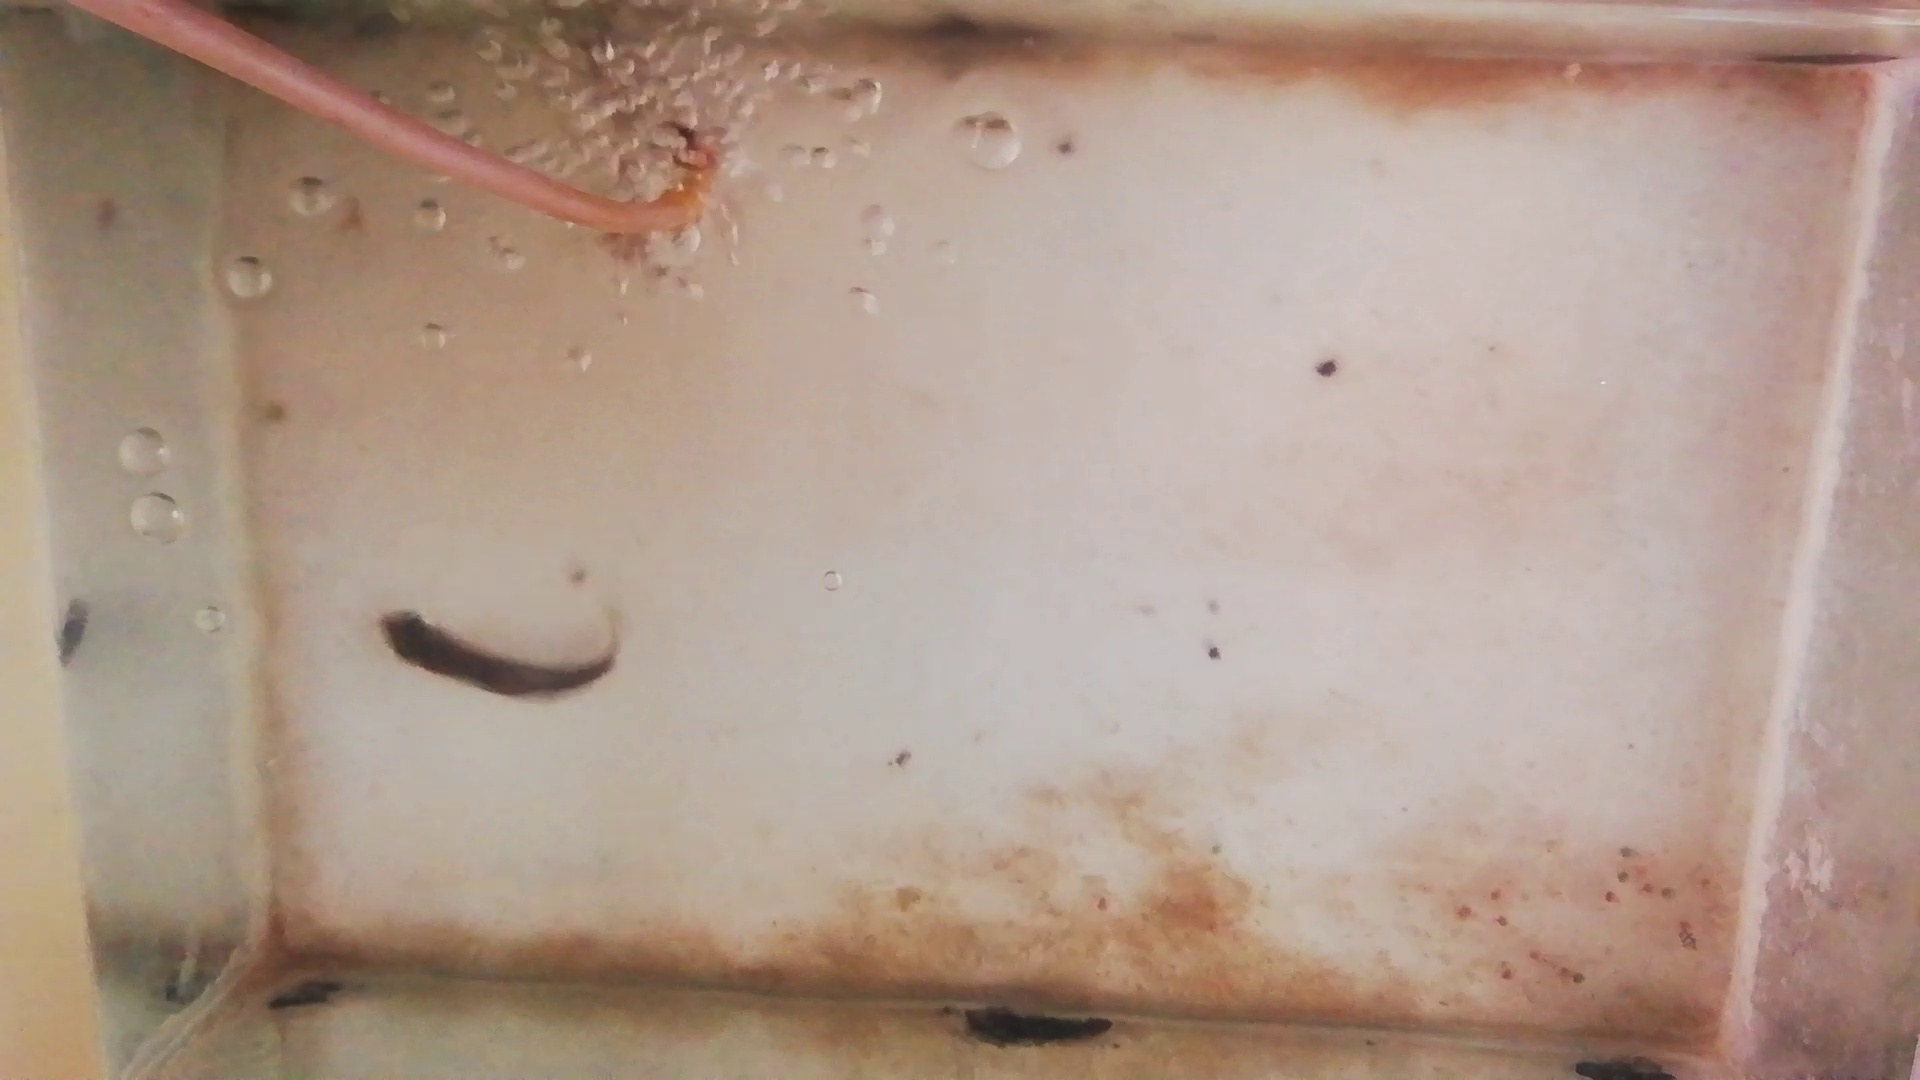fish: (375, 611, 618, 699)
